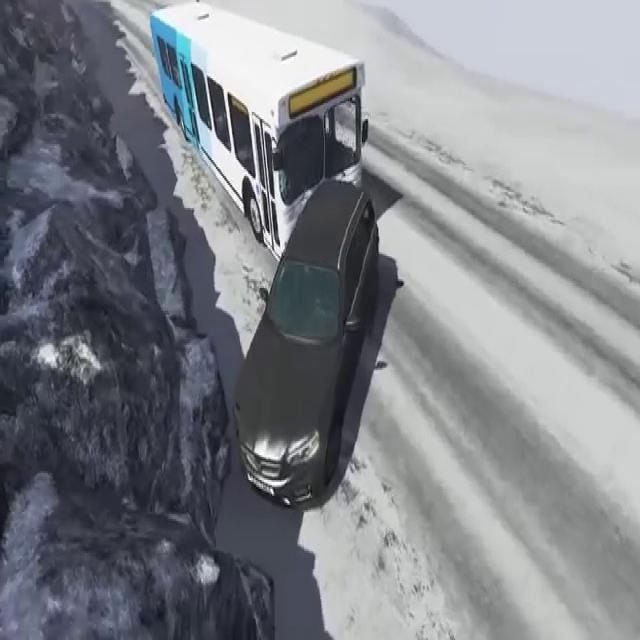moderate: (142, 0, 383, 517)
